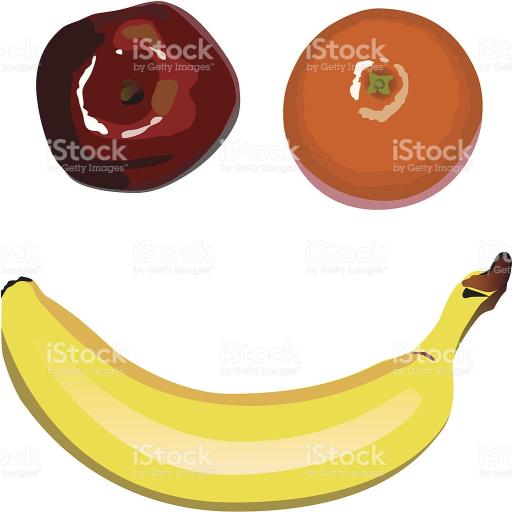apple: (37, 2, 238, 192)
banana: (2, 254, 509, 512)
orange: (284, 9, 482, 208)
